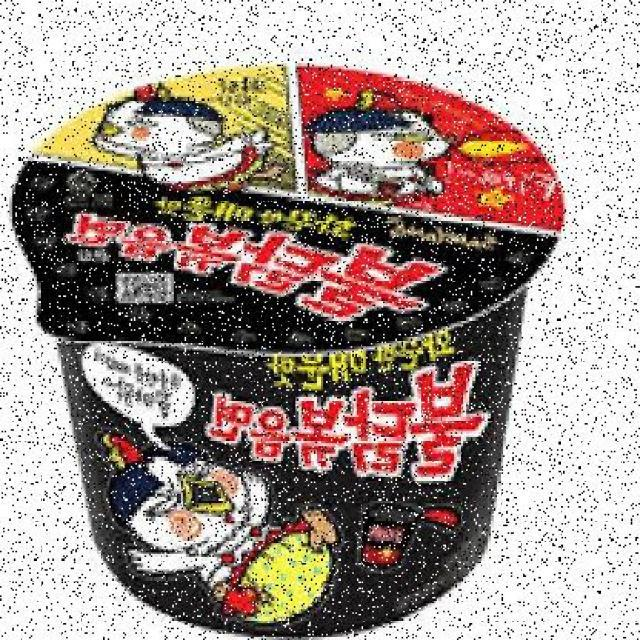Miscellaneous: (7, 58, 573, 634)
